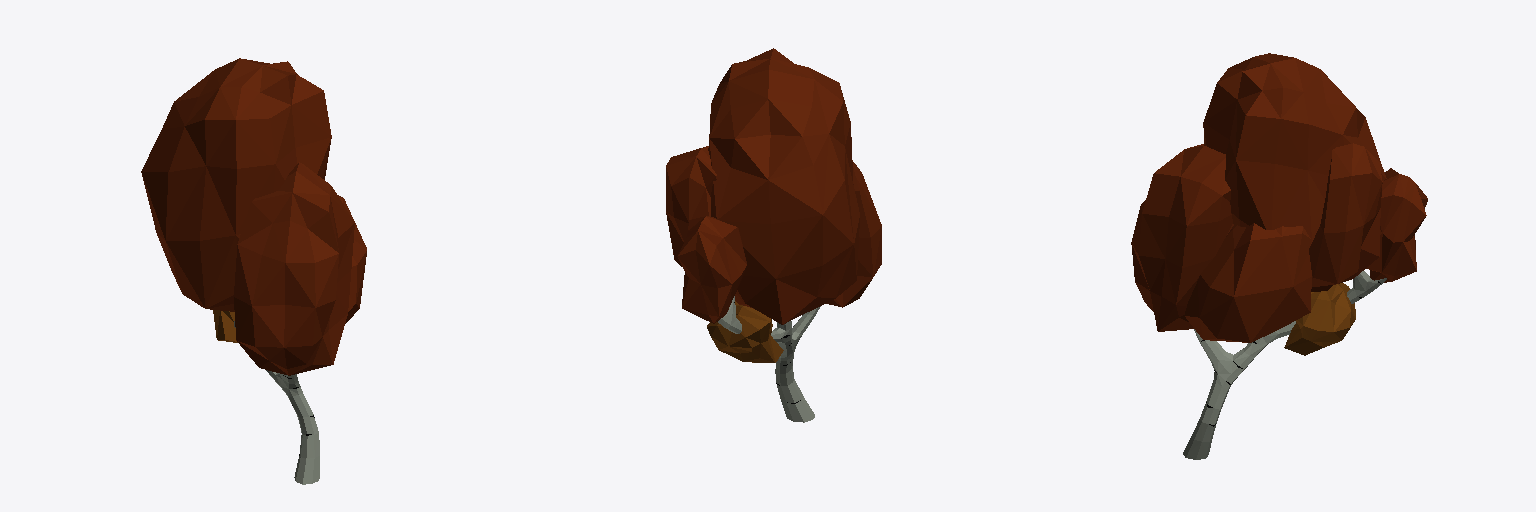
File: BirchTree_Autumn_1.obj
3 renders of one model, left to right at view 1: azimuth 30°, elevation 25°; view 2: azimuth 150°, elevation 25°; view 3: azimuth 270°, elevation 25°, orthographic.
Parts seen in each view (by area): view 1: BirchTree_Autumn_1_Cube.097; view 2: BirchTree_Autumn_1_Cube.097; view 3: BirchTree_Autumn_1_Cube.097.
Part boxes in pixels (x1,y1,x2,y2): BirchTree_Autumn_1_Cube.097: (141,58,366,484); BirchTree_Autumn_1_Cube.097: (666,48,881,422); BirchTree_Autumn_1_Cube.097: (1131,53,1427,459).
Size of the model in its own units: 1.7 by 3.57 by 2.48.